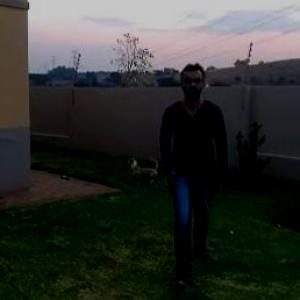follow: (162, 67, 221, 249)
